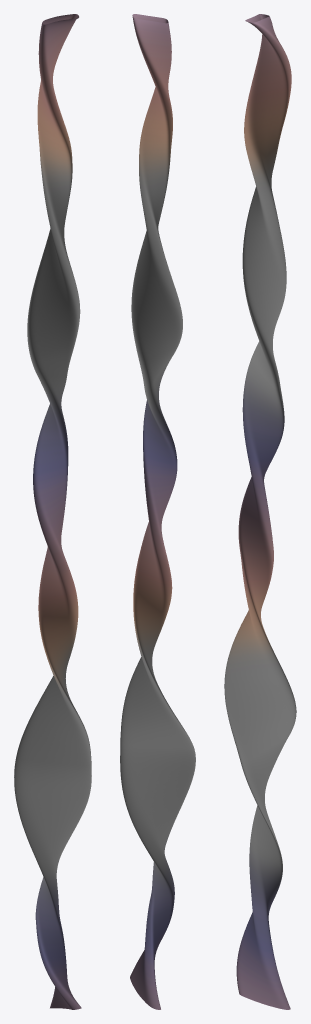
Rendered from source.glb.
3 renders of one model, left to right at view 1: azimuth 30°, elevation 25°; view 2: azimuth 210°, elevation 25°; view 3: azimuth 270°, elevation 25°, orthographic. The views are drawn at different scales.
Visible parts, largest first — view 1: VARA_METAL_LIQUID002.001; view 2: VARA_METAL_LIQUID002.001; view 3: VARA_METAL_LIQUID002.001.
Part boxes in pixels (box(x1,y1,x2,y2)): VARA_METAL_LIQUID002.001: box(14, 14, 91, 1009); VARA_METAL_LIQUID002.001: box(120, 14, 195, 1009); VARA_METAL_LIQUID002.001: box(224, 14, 296, 1009).
Size of the model in its own units: 0.3504 by 5.15 by 0.3394.
1 material, 1 textured.
